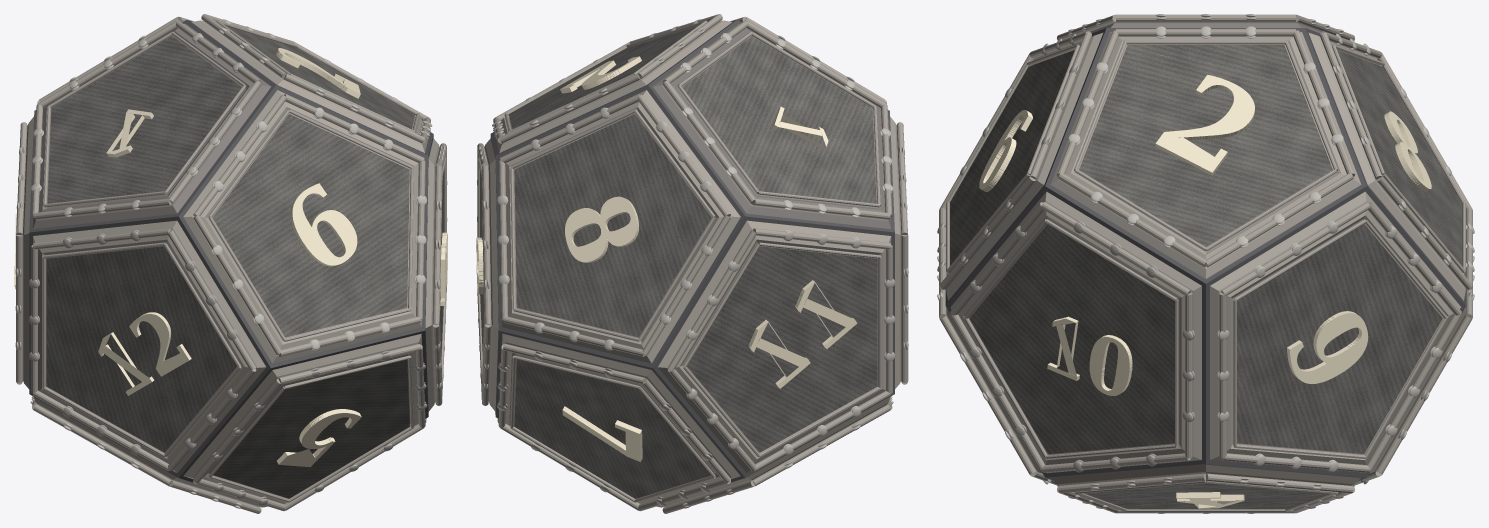
The model's file is knight_armor_d12_medieval_font.glb.
The picture shows the model from 3 angles, left to right: view 1: azimuth 30°, elevation 25°; view 2: azimuth 150°, elevation 25°; view 3: azimuth 270°, elevation 25°; orthographic projection. The views are drawn at different scales.
Parts seen in each view (by area): view 1: AuthenticSteelSurface_6, AuthenticSteelSurface_12, AuthenticSteelSurface_1, AuthenticSteelSurface_5, solid_d12_core, ForgedPentagonalPlate_6, ForgedPentagonalPlate_12, ForgedPentagonalPlate_1, ForgedPentagonalPlate_5, AuthenticSteelSurface_2, RaisedSteelNumeral_6, ForgedPentagonalPlate_2 (+49 smaller); view 2: AuthenticSteelSurface_8, AuthenticSteelSurface_11, AuthenticSteelSurface_1, AuthenticSteelSurface_7, solid_d12_core, ForgedPentagonalPlate_8, ForgedPentagonalPlate_11, ForgedPentagonalPlate_1, ForgedPentagonalPlate_7, AuthenticSteelSurface_2, RaisedSteelNumeral_8, ForgedPentagonalPlate_2 (+48 smaller); view 3: AuthenticSteelSurface_2, AuthenticSteelSurface_10, AuthenticSteelSurface_9, solid_d12_core, ForgedPentagonalPlate_2, ForgedPentagonalPlate_9, ForgedPentagonalPlate_10, AuthenticSteelSurface_6, AuthenticSteelSurface_8, AuthenticSteelSurface_4, RaisedSteelNumeral_2, ForgedPentagonalPlate_6 (+41 smaller).
Part boxes in pixels (x1=…): AuthenticSteelSurface_6: x1=212, y1=114, x2=409, y2=337; AuthenticSteelSurface_12: x1=46, y1=246, x2=237, y2=452; AuthenticSteelSurface_1: x1=47, y1=36, x2=241, y2=203; AuthenticSteelSurface_5: x1=213, y1=359, x2=409, y2=498; solid_d12_core: x1=29, y1=20, x2=433, y2=482; ForgedPentagonalPlate_6: x1=183, y1=90, x2=424, y2=363; ForgedPentagonalPlate_12: x1=33, y1=220, x2=266, y2=472; ForgedPentagonalPlate_1: x1=33, y1=23, x2=271, y2=228; ForgedPentagonalPlate_5: x1=183, y1=333, x2=422, y2=503; AuthenticSteelSurface_2: x1=226, y1=26, x2=415, y2=129; RaisedSteelNumeral_6: x1=290, y1=183, x2=357, y2=266; ForgedPentagonalPlate_2: x1=192, y1=20, x2=429, y2=152; AuthenticSteelSurface_8: x1=514, y1=114, x2=711, y2=337; AuthenticSteelSurface_11: x1=687, y1=246, x2=877, y2=452; AuthenticSteelSurface_1: x1=682, y1=36, x2=876, y2=203; AuthenticSteelSurface_7: x1=514, y1=359, x2=710, y2=498; solid_d12_core: x1=490, y1=20, x2=894, y2=482; ForgedPentagonalPlate_8: x1=499, y1=90, x2=740, y2=363; ForgedPentagonalPlate_11: x1=658, y1=220, x2=891, y2=472; ForgedPentagonalPlate_1: x1=653, y1=23, x2=890, y2=228; ForgedPentagonalPlate_7: x1=502, y1=333, x2=740, y2=503; AuthenticSteelSurface_2: x1=509, y1=26, x2=697, y2=129; RaisedSteelNumeral_8: x1=565, y1=196, x2=638, y2=262; ForgedPentagonalPlate_2: x1=494, y1=20, x2=732, y2=152; AuthenticSteelSurface_2: x1=1079, y1=45, x2=1332, y2=246; AuthenticSteelSurface_10: x1=969, y1=224, x2=1174, y2=453; AuthenticSteelSurface_9: x1=1237, y1=224, x2=1442, y2=453; solid_d12_core: x1=945, y1=28, x2=1466, y2=480; ForgedPentagonalPlate_2: x1=1050, y1=32, x2=1361, y2=278; ForgedPentagonalPlate_9: x1=1210, y1=191, x2=1461, y2=473; ForgedPentagonalPlate_10: x1=950, y1=191, x2=1201, y2=473; AuthenticSteelSurface_6: x1=950, y1=50, x2=1074, y2=265; AuthenticSteelSurface_8: x1=1337, y1=50, x2=1461, y2=265; AuthenticSteelSurface_4: x1=1084, y1=483, x2=1327, y2=509; RaisedSteelNumeral_2: x1=1155, y1=75, x2=1254, y2=175; ForgedPentagonalPlate_6: x1=946, y1=32, x2=1103, y2=300.
Bounding box in the file's own units: 3.08 × 3.08 × 3.08.
Materials: 6 (1 with a texture image).
